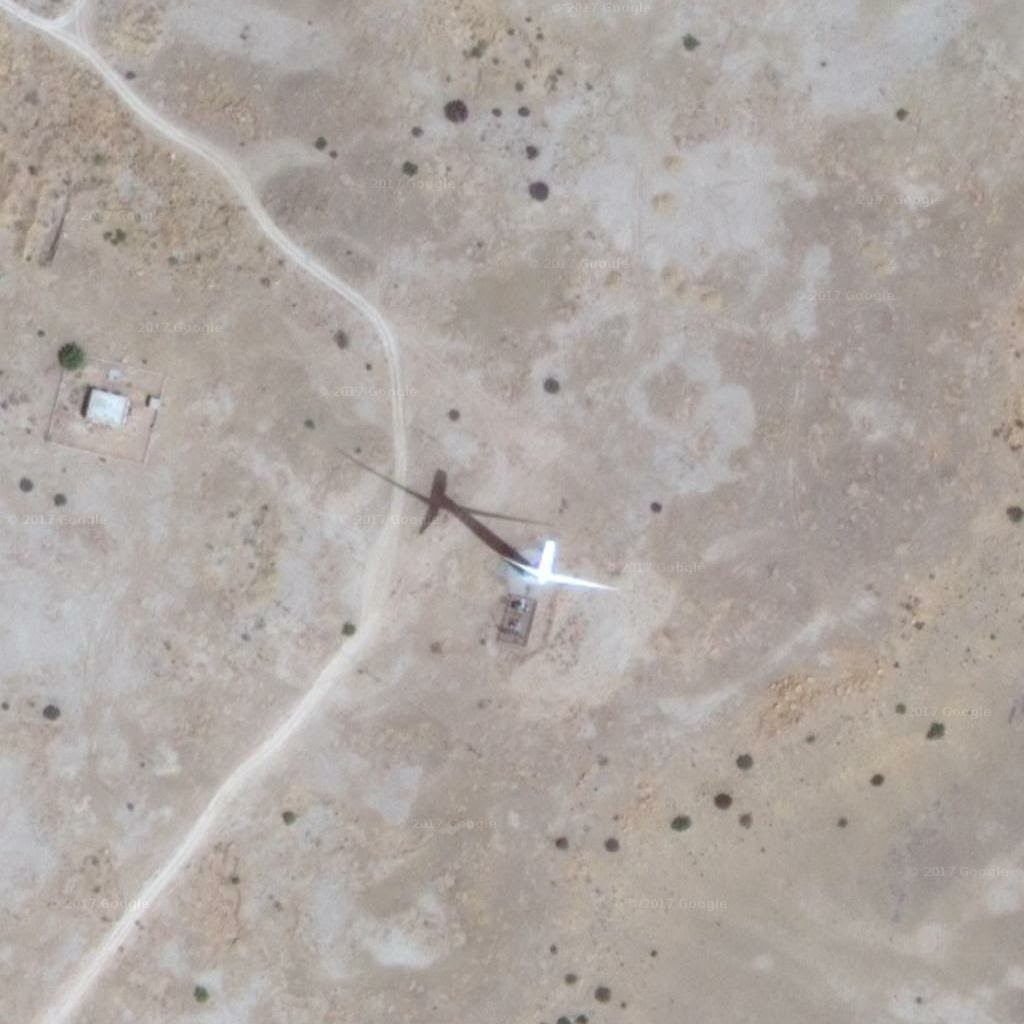Windmill: (327, 438, 541, 571)
